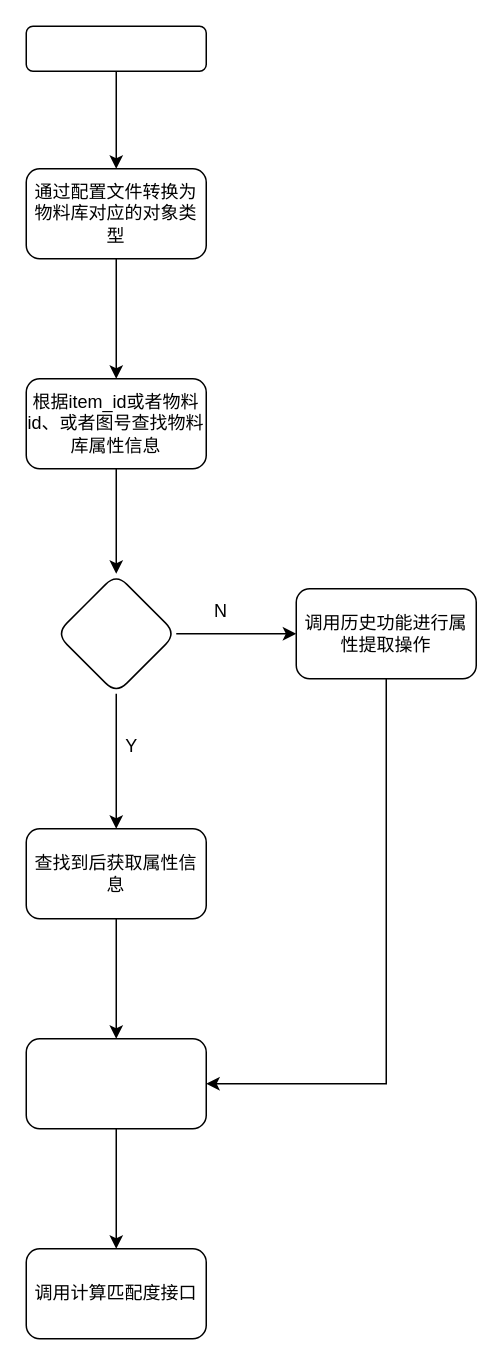
Some shapes in this 503 by 1365 pixel diagram are drawn without their labels. The box of each missing label's shape, as (x1, y1, x2, y2) in pixels:
是否查找: (55, 572, 176, 694)
组织物料参数、计算参数、processId: (25, 1037, 206, 1129)
选中tc对象: (25, 25, 206, 71)
